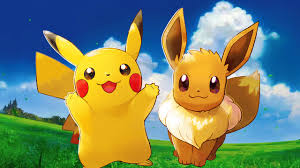pikachu: (34, 14, 161, 168)
